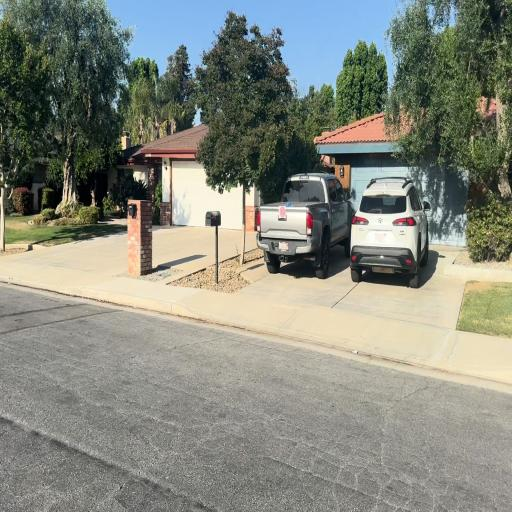bullseye: (279, 206, 286, 218)
